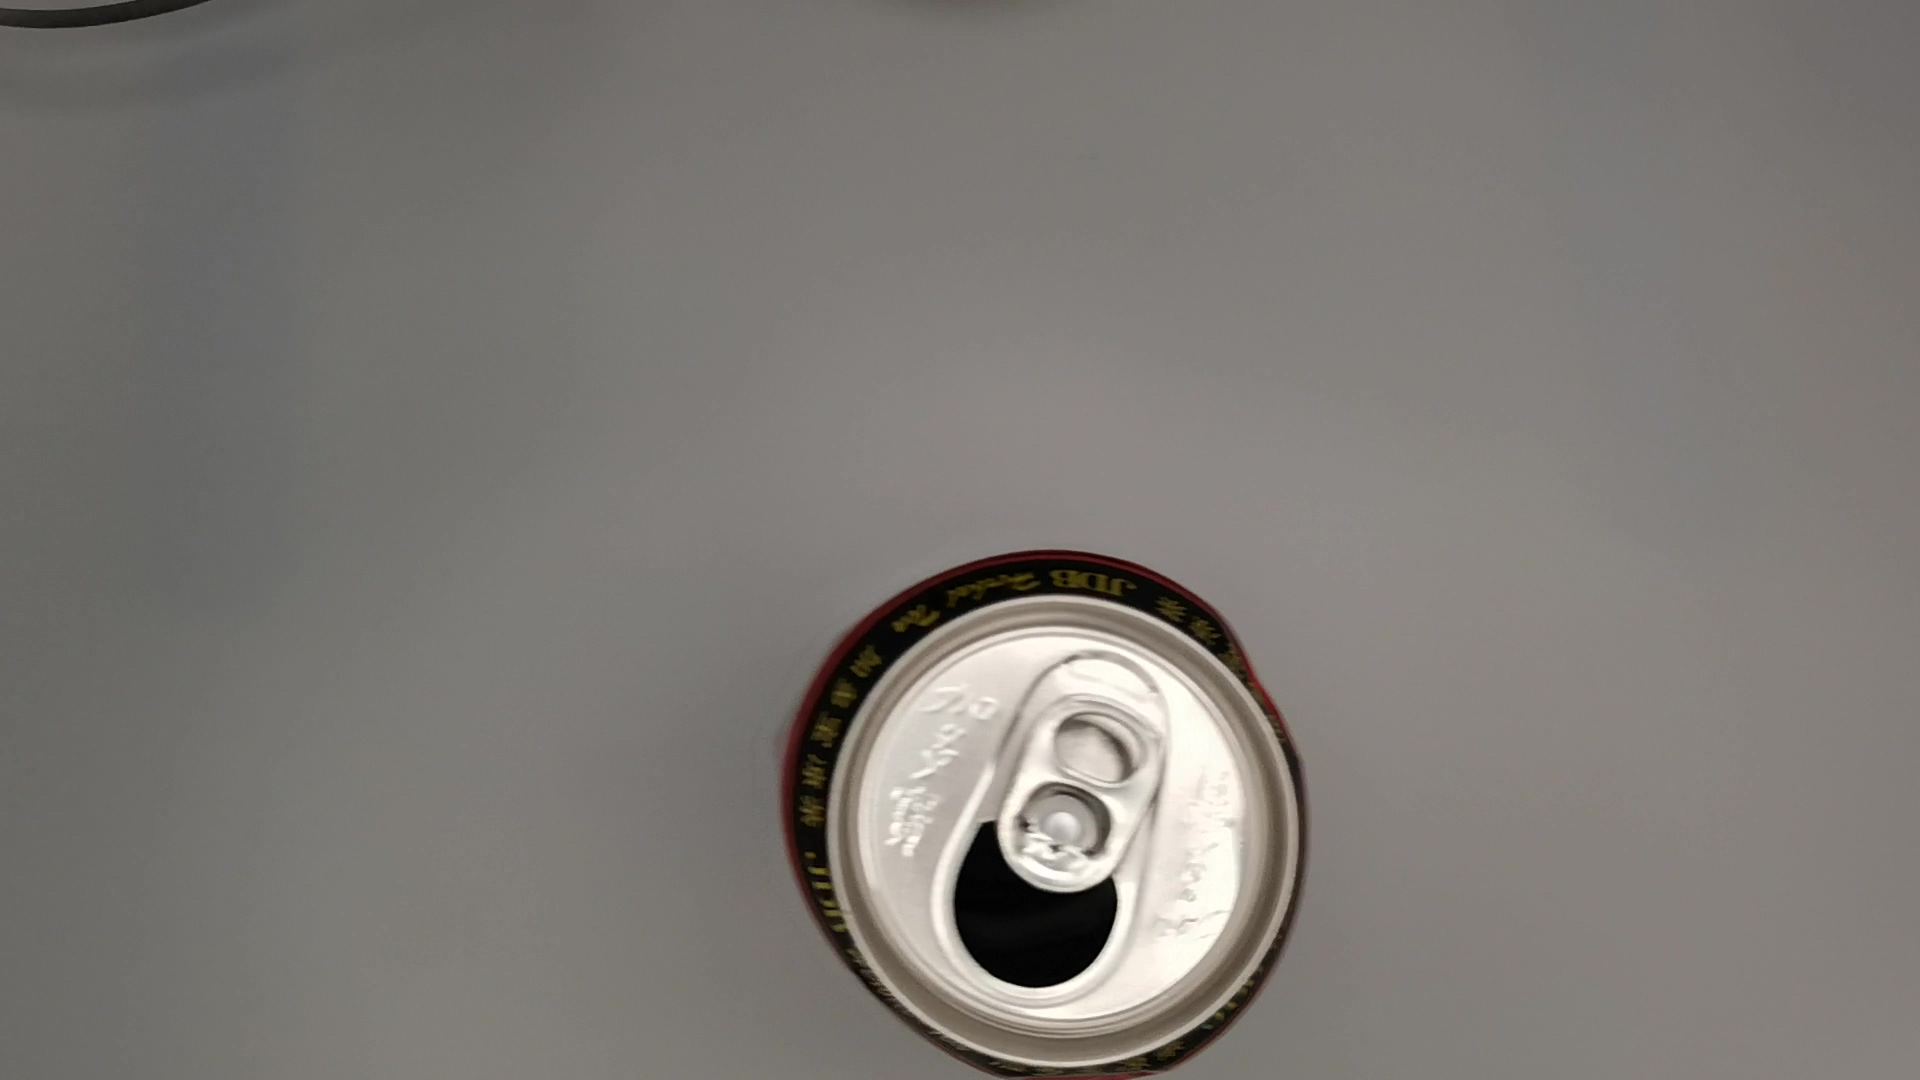can: (771, 538, 1308, 1080)
